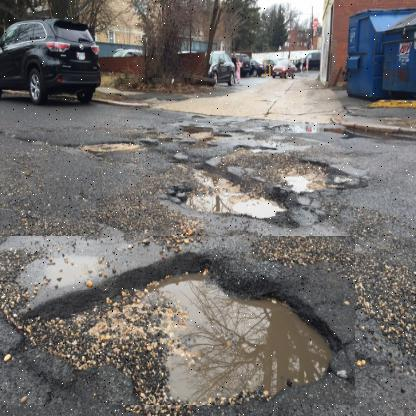damage: (160, 118, 352, 243)
pothole: (0, 236, 356, 406)
